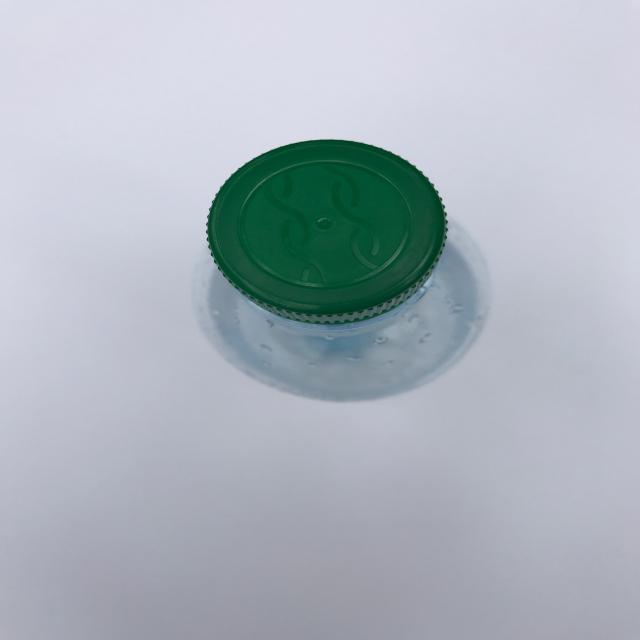plastic: (206, 138, 449, 328)
